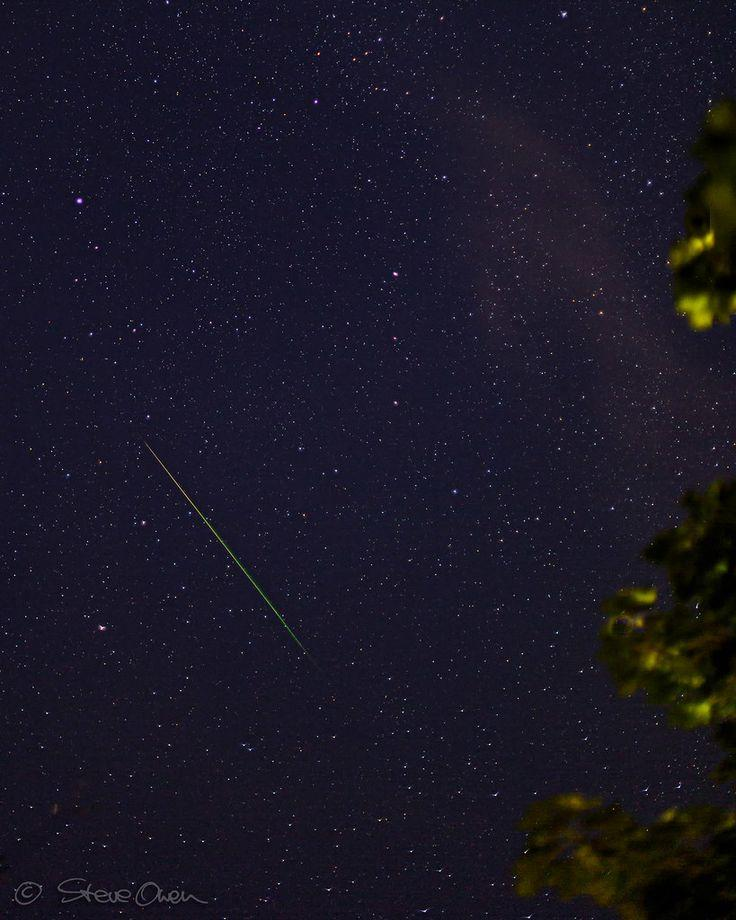meteor: (276, 616, 320, 668)
